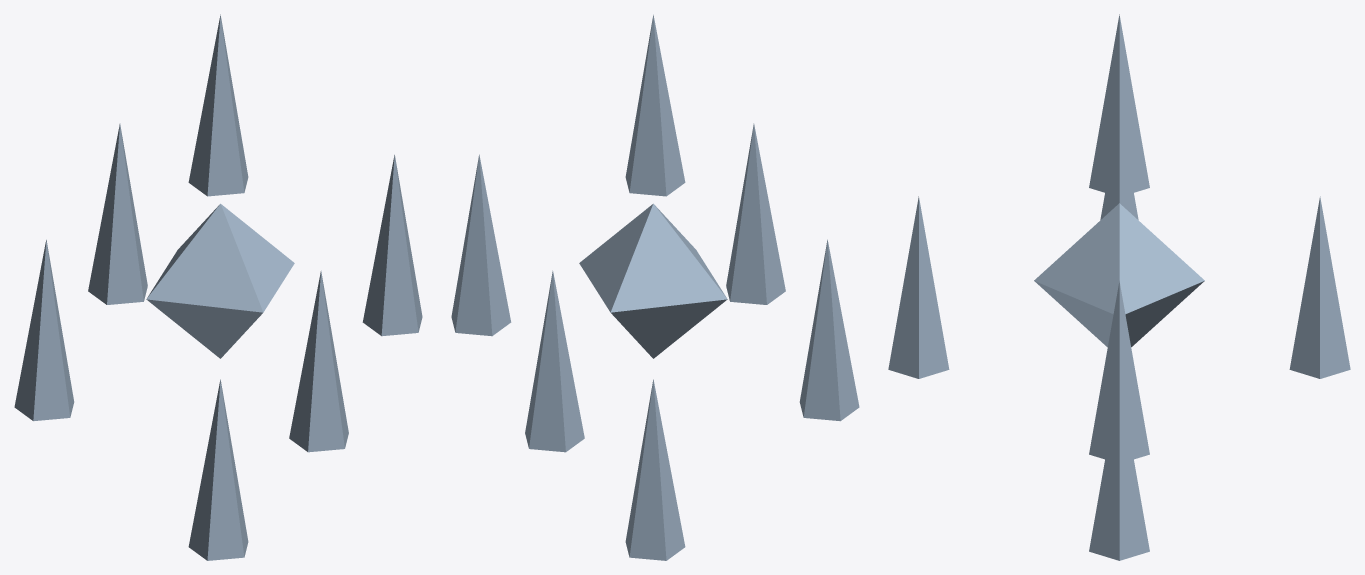
File: basic_attack.obj
The picture shows the model from 3 angles, left to right: view 1: azimuth 30°, elevation 25°; view 2: azimuth 150°, elevation 25°; view 3: azimuth 270°, elevation 25°; orthographic projection.
Parts seen in each view (by area): view 1: models/vfx/basic_attack.obj; view 2: models/vfx/basic_attack.obj; view 3: models/vfx/basic_attack.obj.
Part boxes in pixels (x1,y1,x2,y2): models/vfx/basic_attack.obj: (14, 14, 422, 560); models/vfx/basic_attack.obj: (451, 14, 859, 560); models/vfx/basic_attack.obj: (888, 14, 1350, 560).
Bounding box in the file's own units: 1.72 × 2.2 × 1.73.
